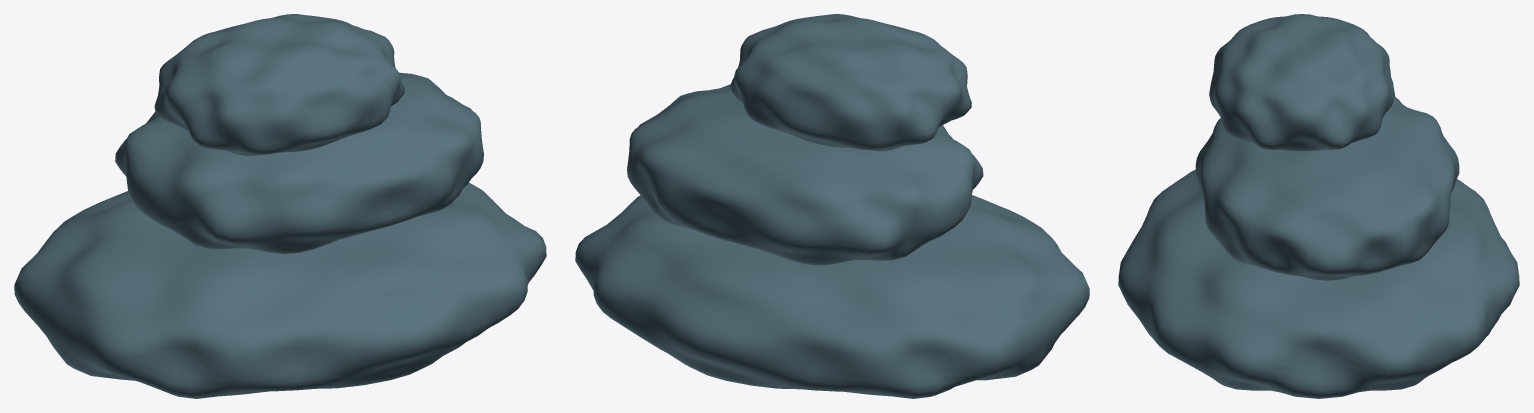
3 renders of one model, left to right at view 1: azimuth 30°, elevation 25°; view 2: azimuth 150°, elevation 25°; view 3: azimuth 270°, elevation 25°, orthographic. The views are drawn at different scales.
Visible parts, largest first — view 1: stone-4, stone-7, stone-11; view 2: stone-4, stone-7, stone-11; view 3: stone-4, stone-7, stone-11.
Boxes of the visible parts, box(x1,y1,x2,y2) form: stone-4: box(14, 182, 546, 398); stone-7: box(115, 72, 483, 253); stone-11: box(154, 14, 404, 155); stone-4: box(575, 195, 1089, 398); stone-7: box(627, 84, 983, 265); stone-11: box(730, 14, 971, 151); stone-4: box(1118, 170, 1519, 398); stone-7: box(1195, 96, 1459, 280); stone-11: box(1209, 14, 1394, 151).
Bounding box in the file's own units: 1.69 × 1.14 × 1.42.
